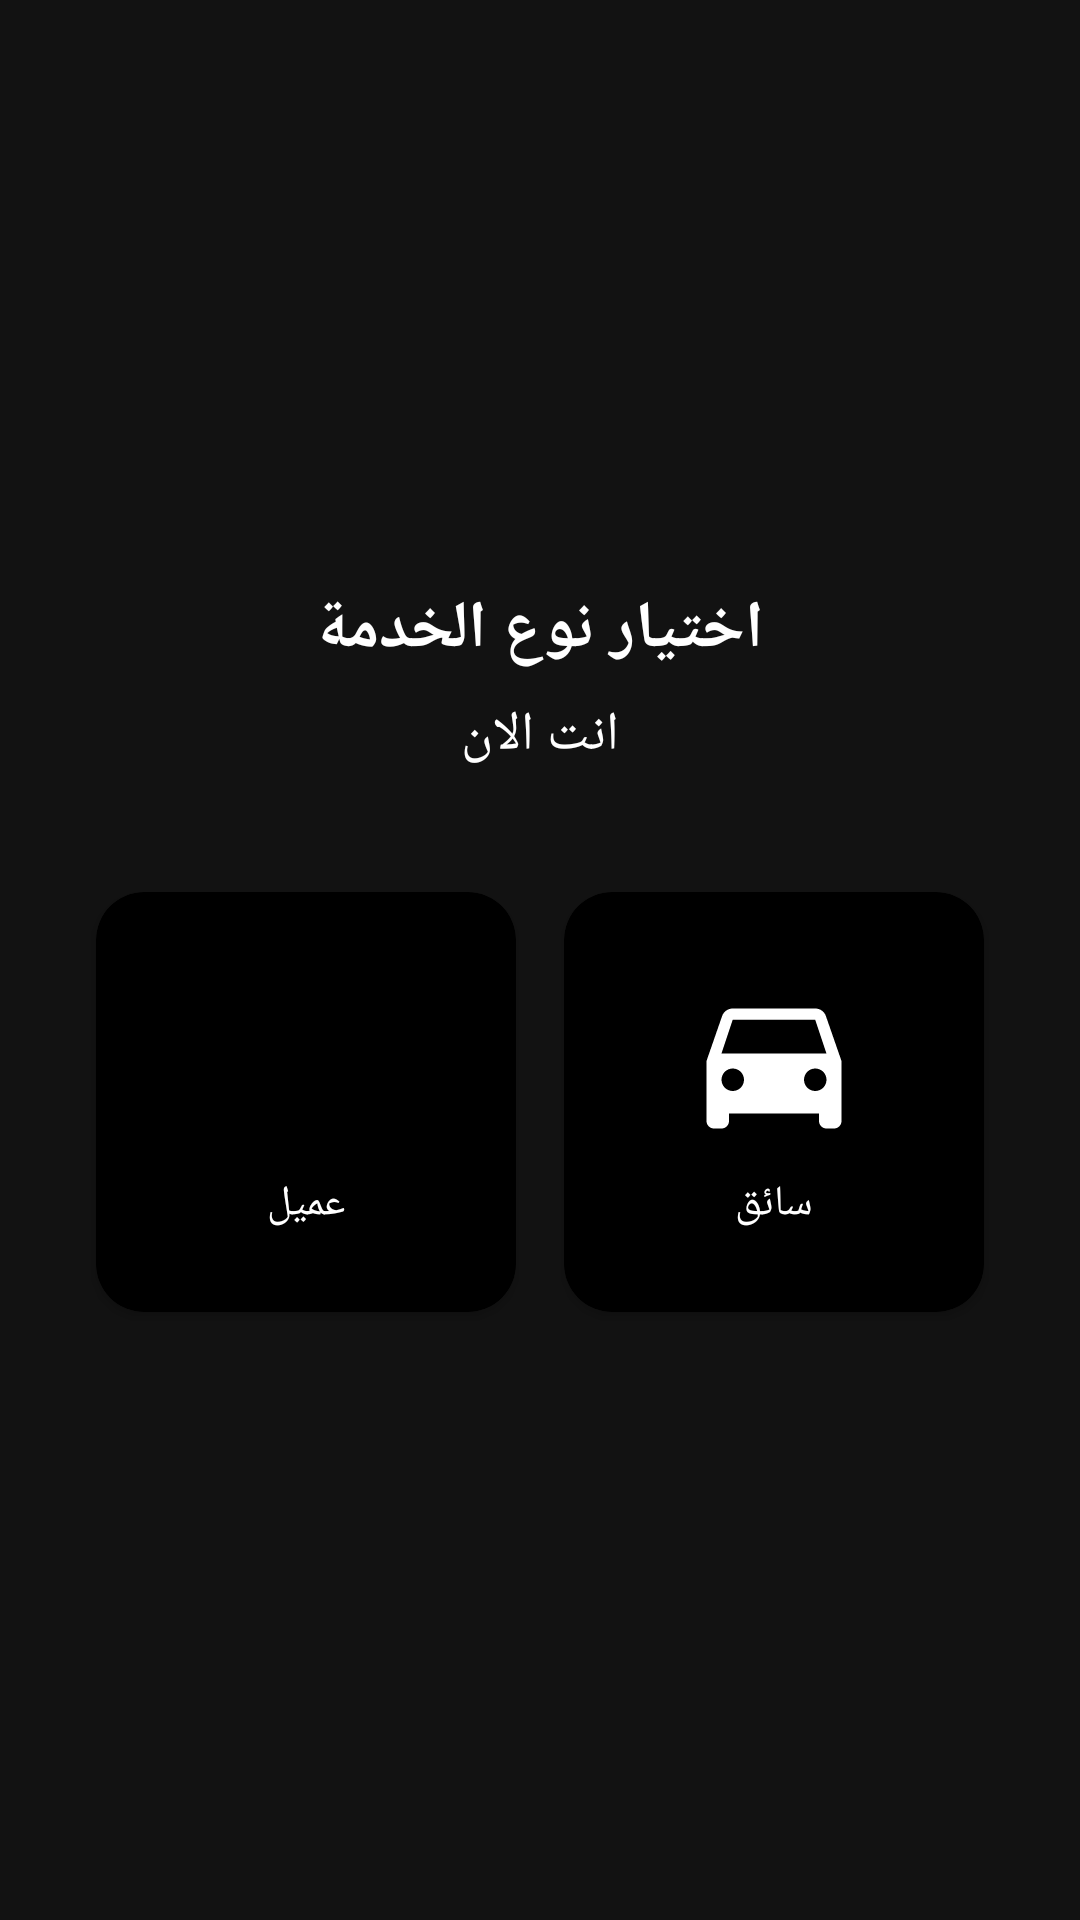

Icons on this 1080×1920 Android screen, each with its box as box=[x1, y1, x2, y2]:
driver: box=[706, 1008, 842, 1129]
